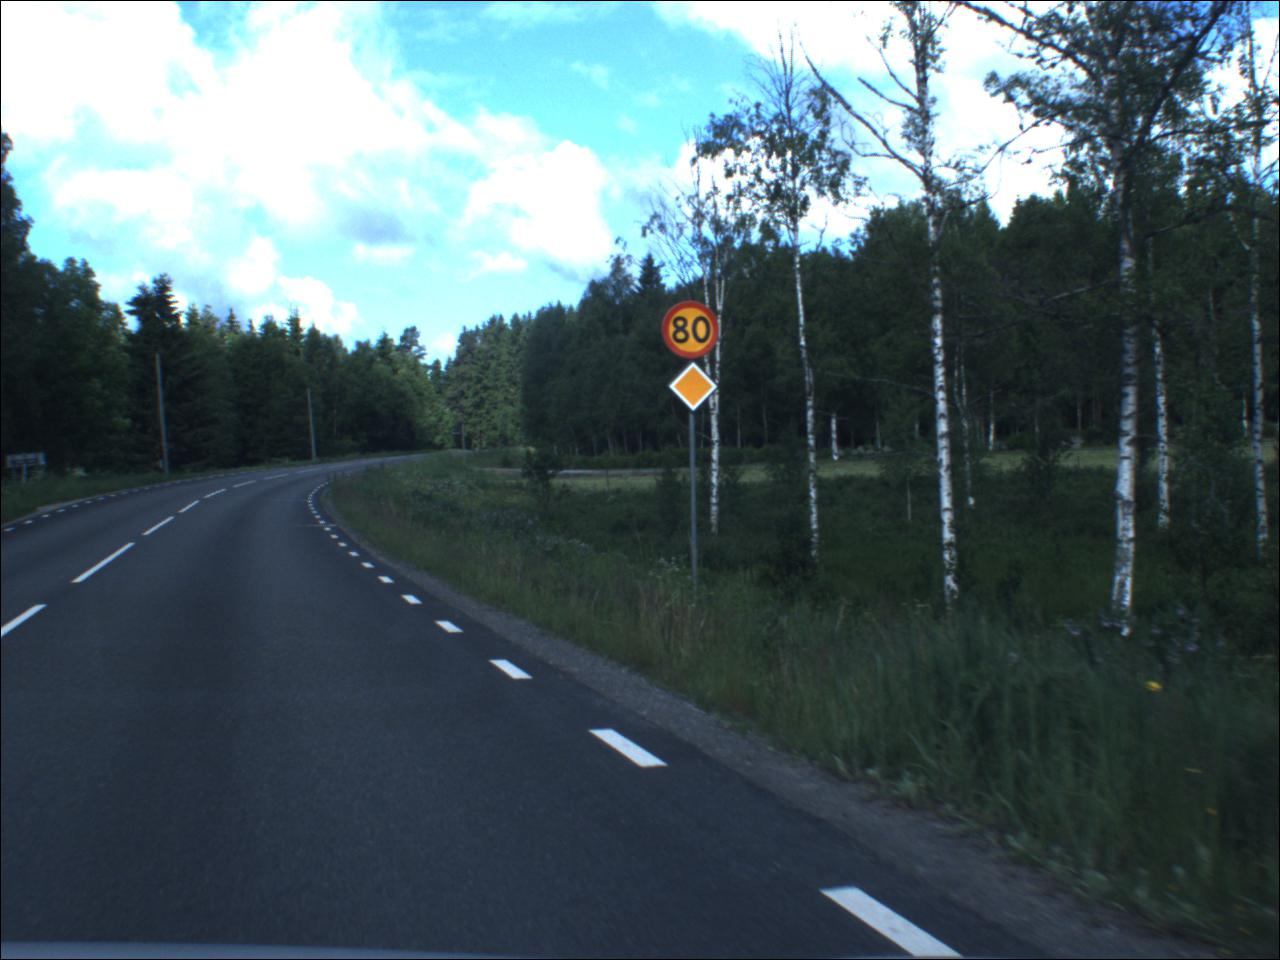80_SIGN: (661, 299, 722, 360)
PRIORITY_ROAD: (670, 363, 720, 415)
